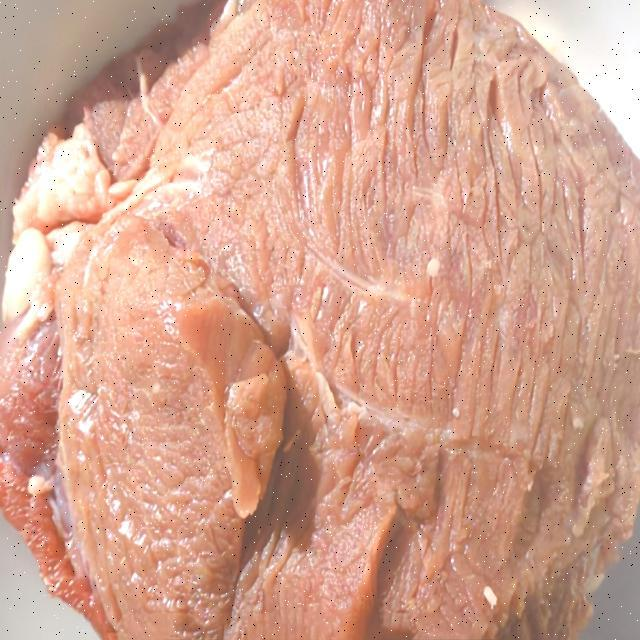pork: (2, 0, 634, 640)
